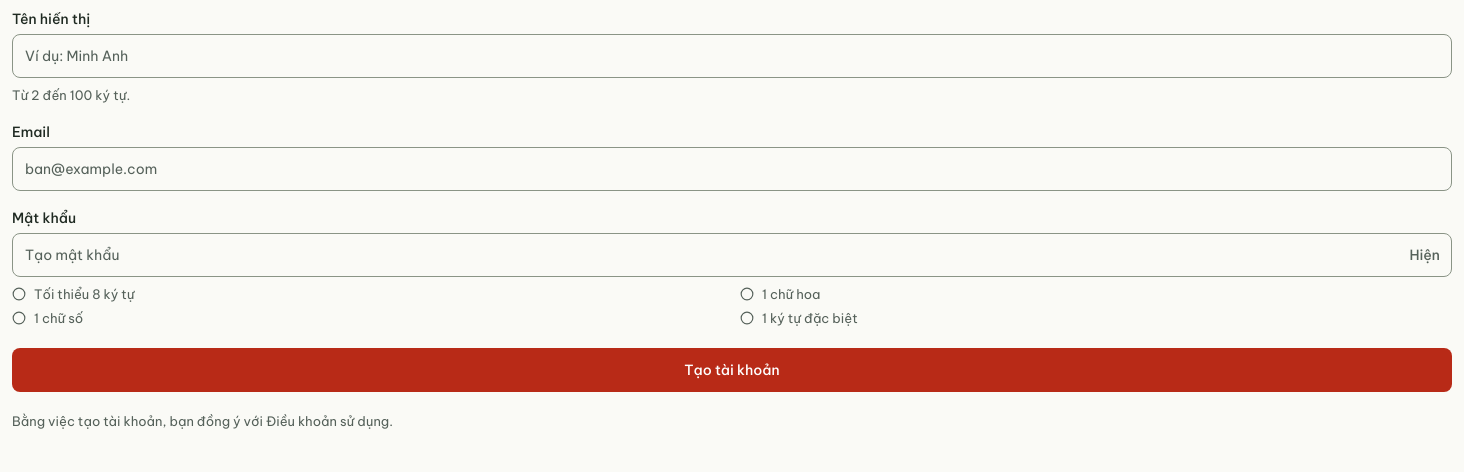
Test: RegisterForm › blocks a weak password
Type "Minh Anh" into the field labelled "Tên hiển thị" at (732, 56), box [12,34,1452,78]
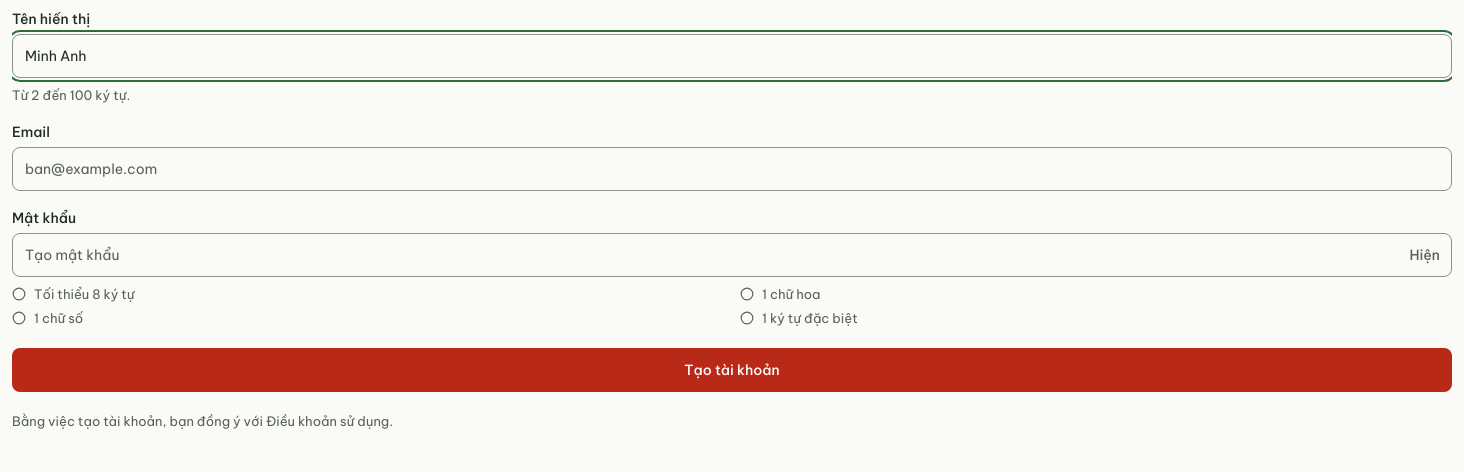
Type "a@b.co" into the field labelled "Email" at (732, 169), box [12,147,1452,191]
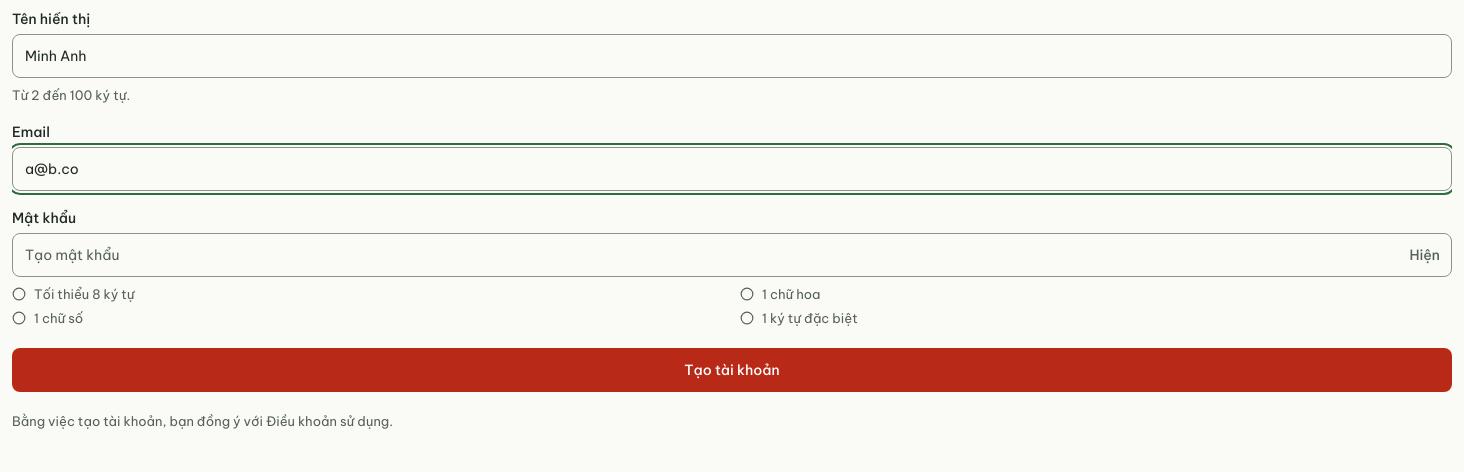
Type "abc" into the password field labelled "Mật khẩu" at (732, 255), box [12,233,1452,277]
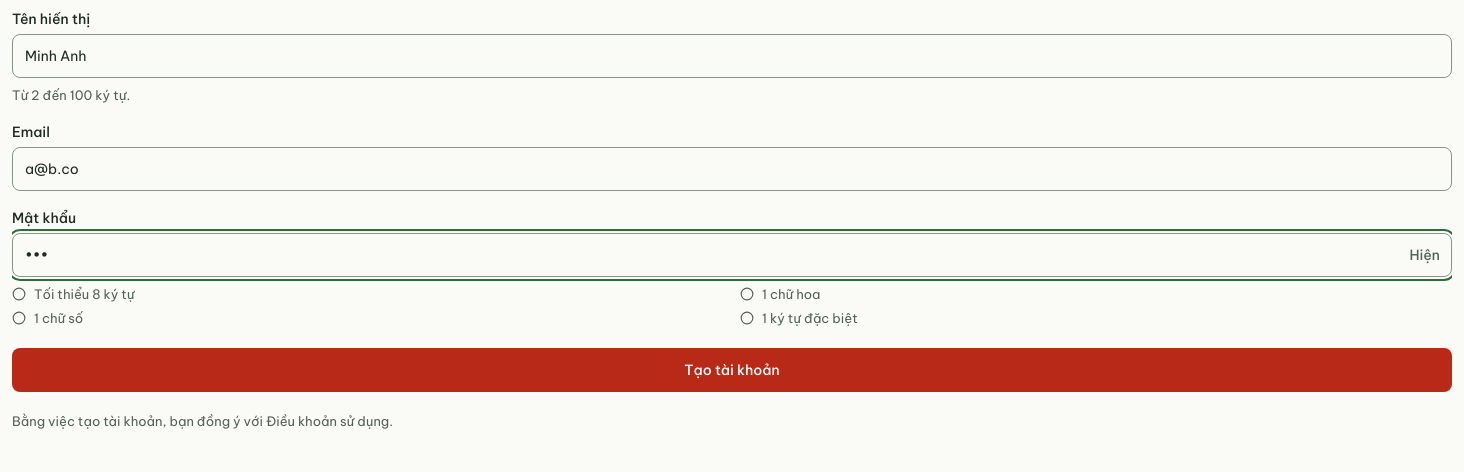
Click the button "Tạo tài khoản" at (732, 370), box [12,348,1452,392]
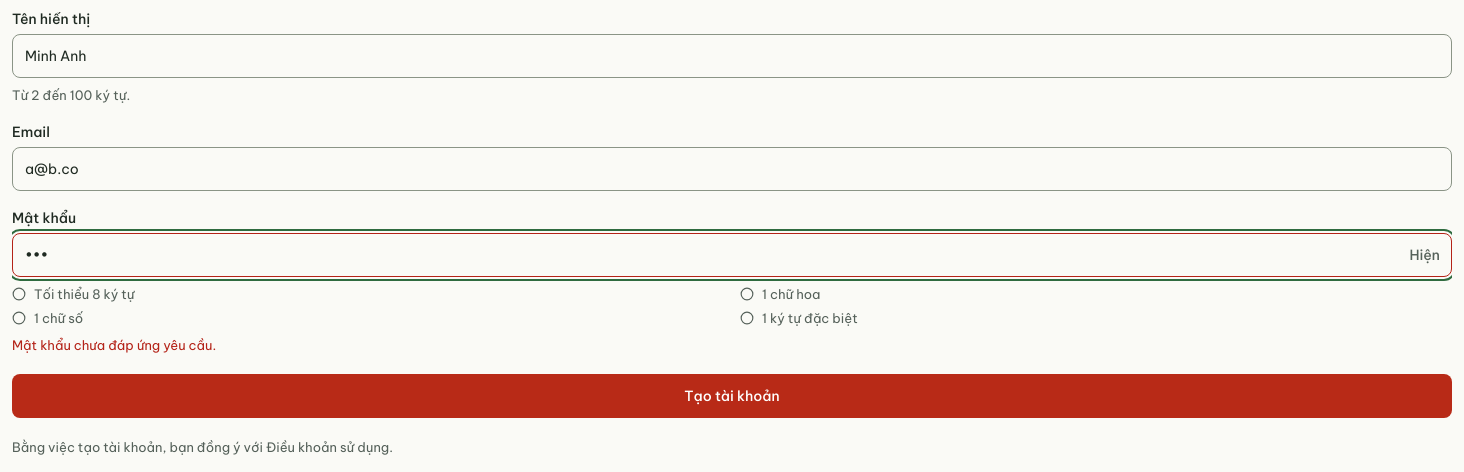
Expected: the text "Mật khẩu chưa đáp ứng yêu cầu." is shown, [12,337,216,353]
